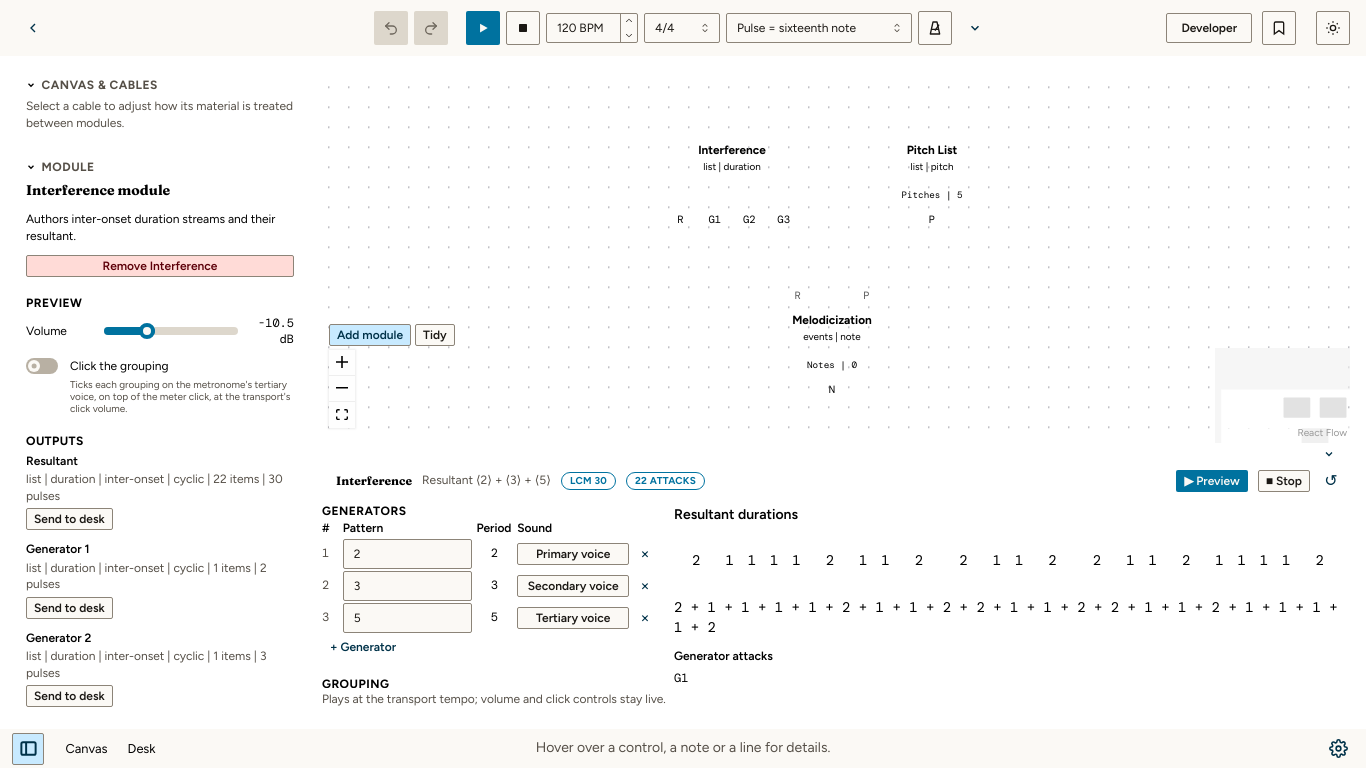
Scenario: workbench page history › restores a deleted module with its state, and removes it again on redo
Click the button "Pitch List list | pitch Pitches | 5" at (932, 172), box [858,134,1006,211]
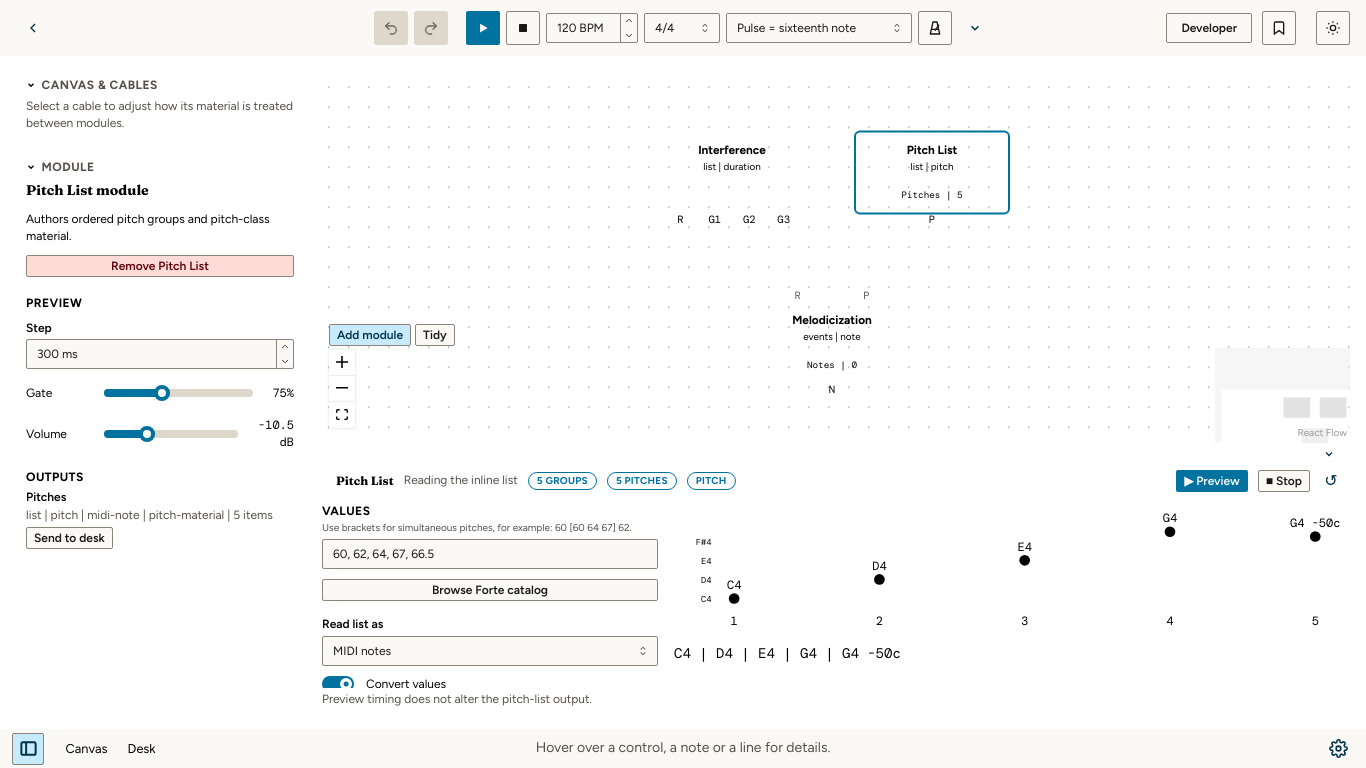
Replace the text in the field named "Pitch values" with "61, 62" at (490, 554), box [322,539,658,569]
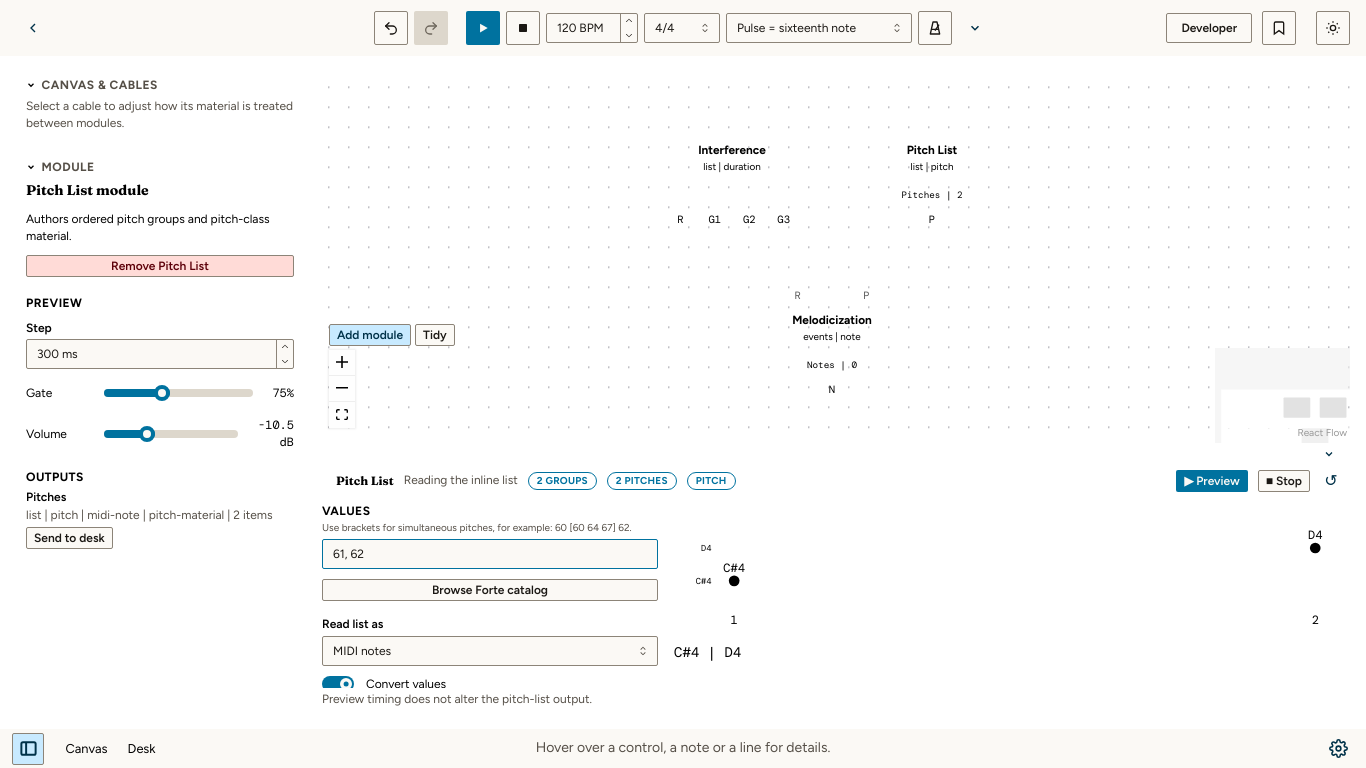
Click the button "Remove Pitch List" at (160, 266), box [26,255,294,277]
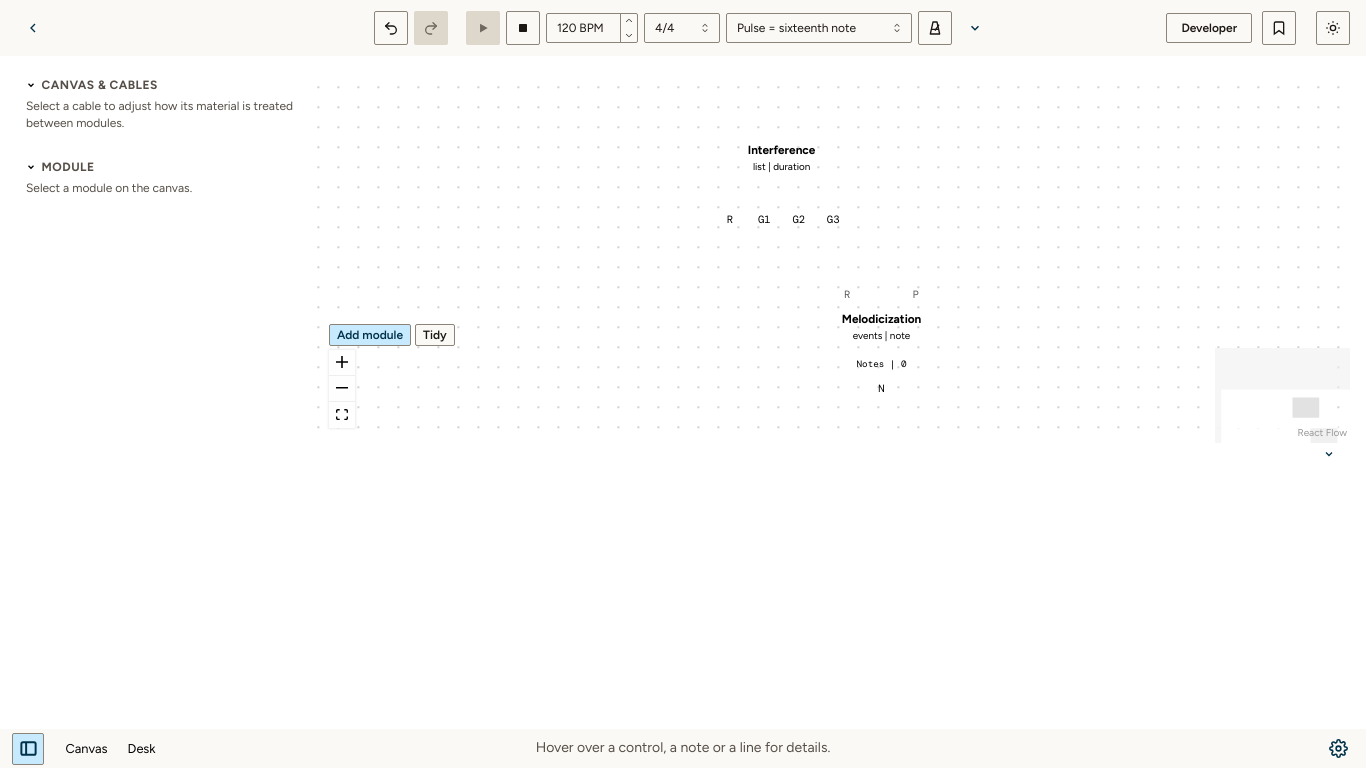
Result: the heading "Pitch List" is gone
Click the button named "Undo" at (391, 28), box [374,11,408,45]
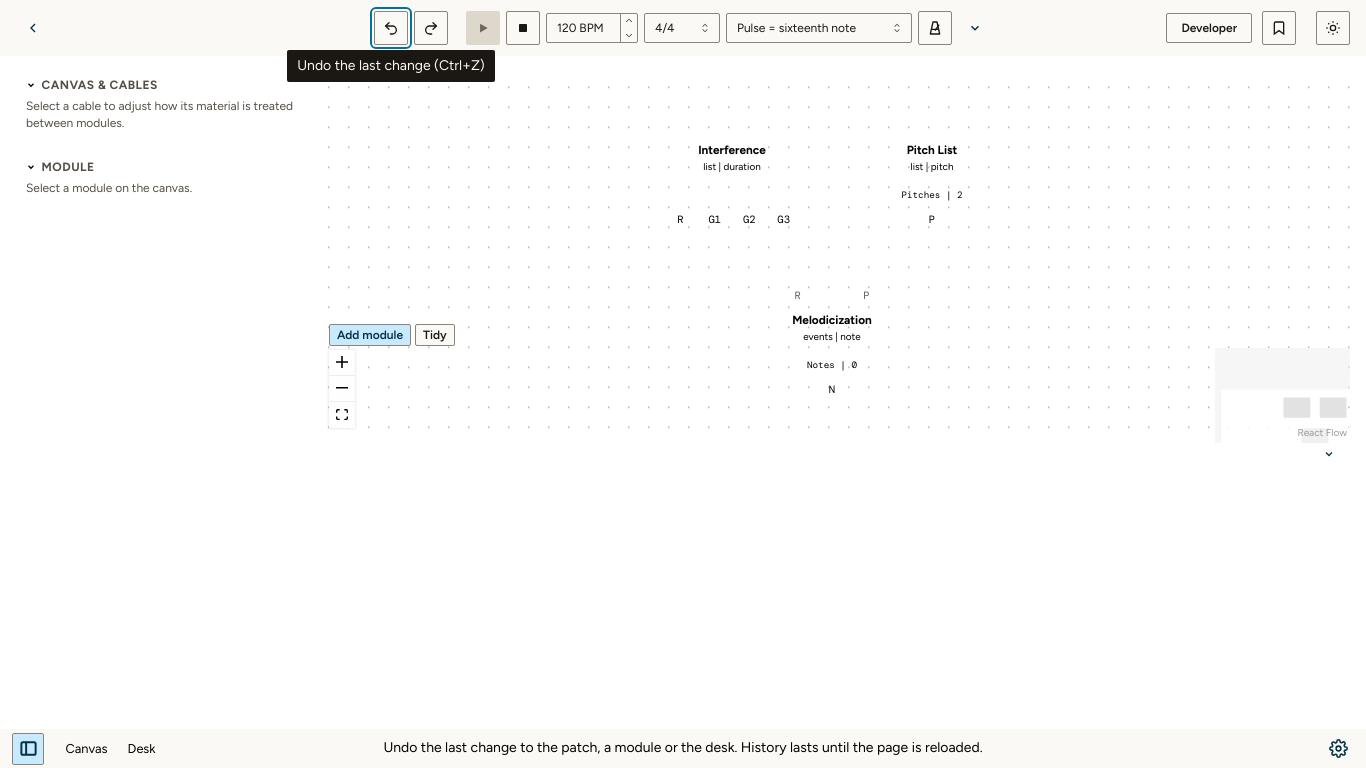
Result: the button "Pitch List list | pitch Pitches | 2" is shown
Click the button "Pitch List list | pitch Pitches | 2" at (932, 172), box [858,134,1006,211]
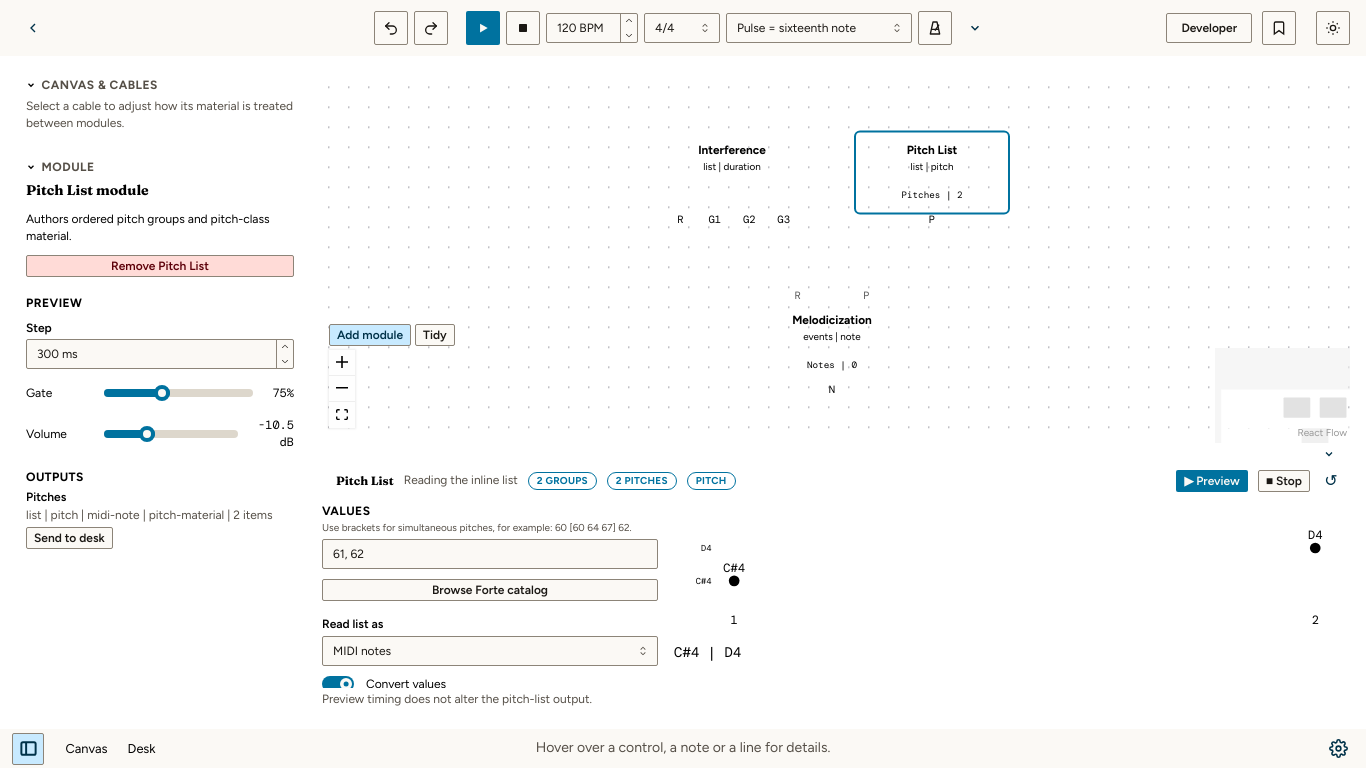
Result: the field named "Pitch values" holds "61, 62" at [322,539,658,569]
Click the button named "Redo" at (431, 28), box [414,11,448,45]
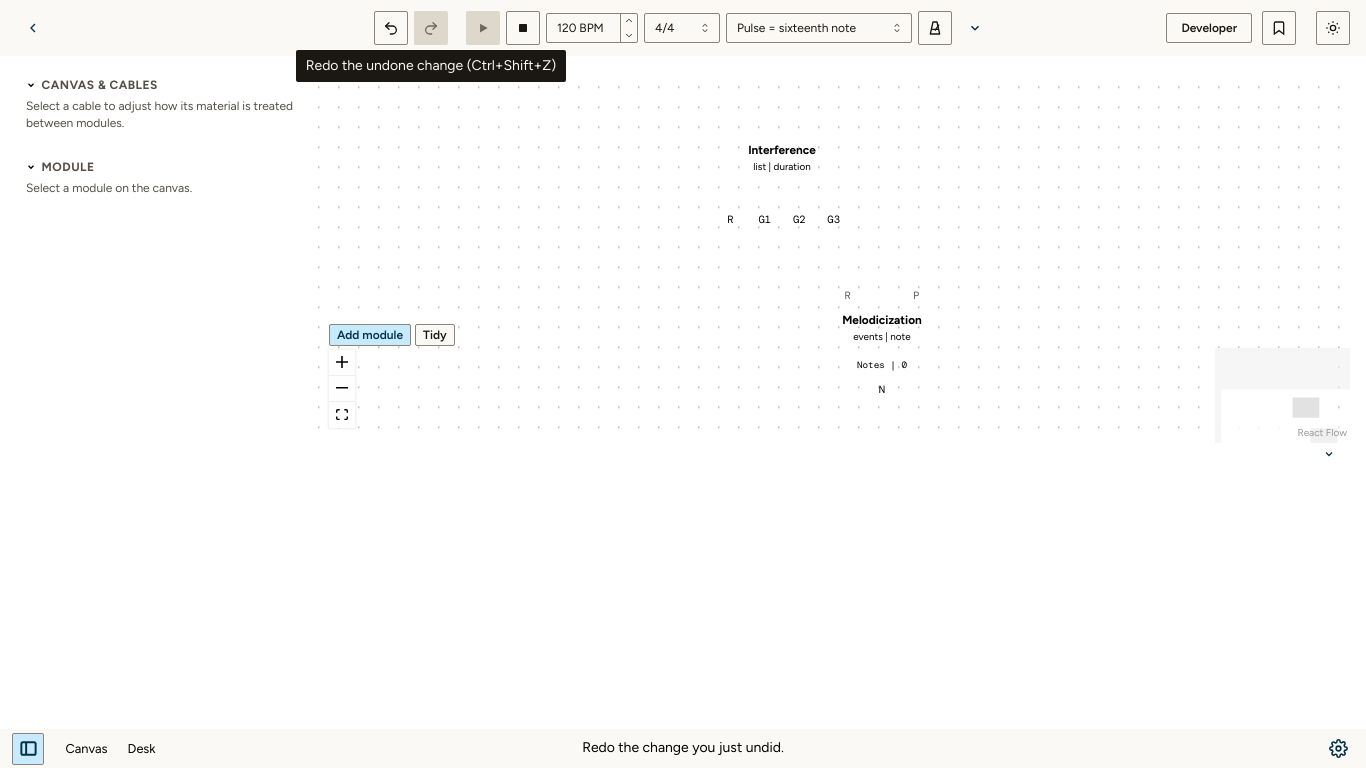
Result: the heading "Pitch List" is gone
